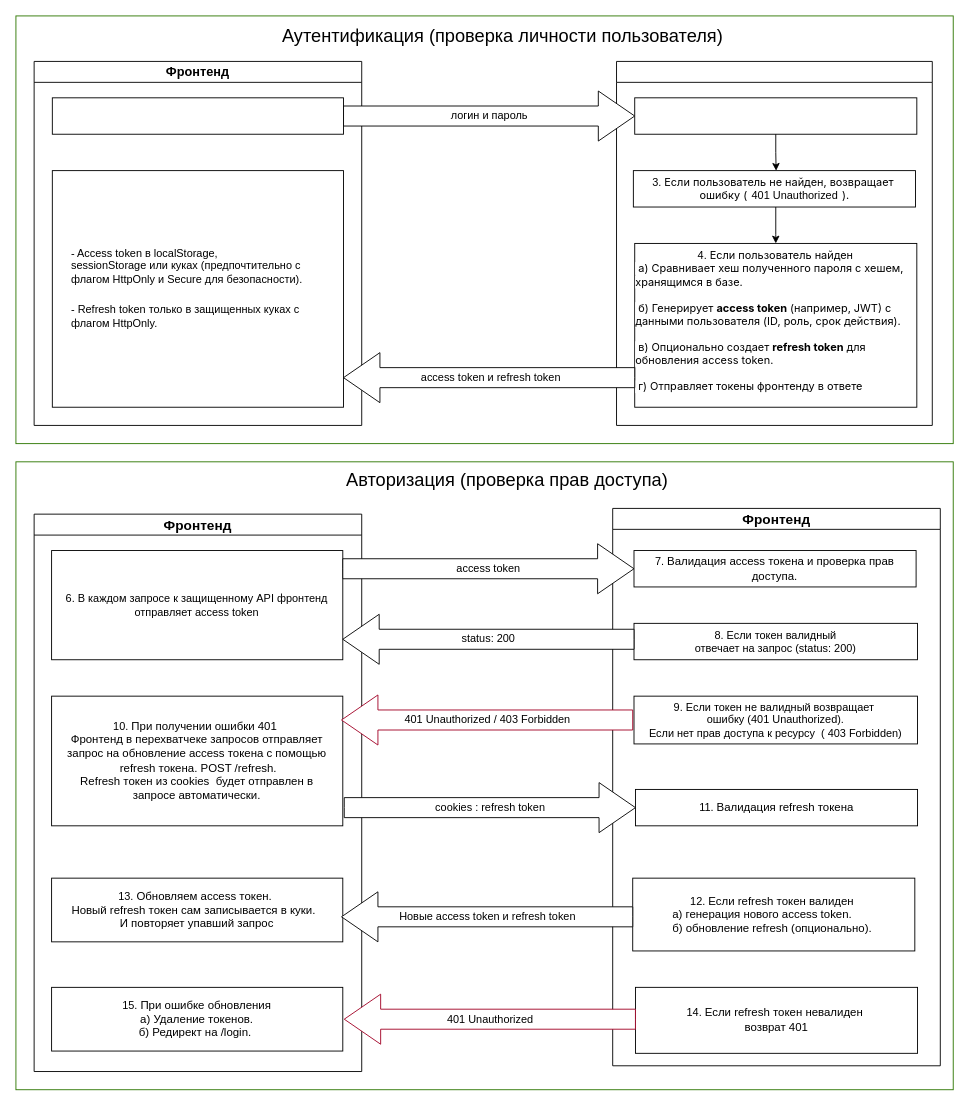
The diagram is 969 pixels wide and 1106 high, and some of its shapes have lost their labels. The shapes that lost their labels are listed below. From the top down, each one's box as (x1, y1, x2, y2) in pixels, then its label:
(51, 97, 344, 134): 1. Фронтенд отправляет учетные данные (логин и пароль) POST /auth/login .
(634, 97, 917, 134): 2. Бекенд выполняет п оиск пользователя в базе данных
(616, 61, 932, 425): Бэкенд
(51, 170, 344, 407): 5. Токены сохраняются на Фронтенде
